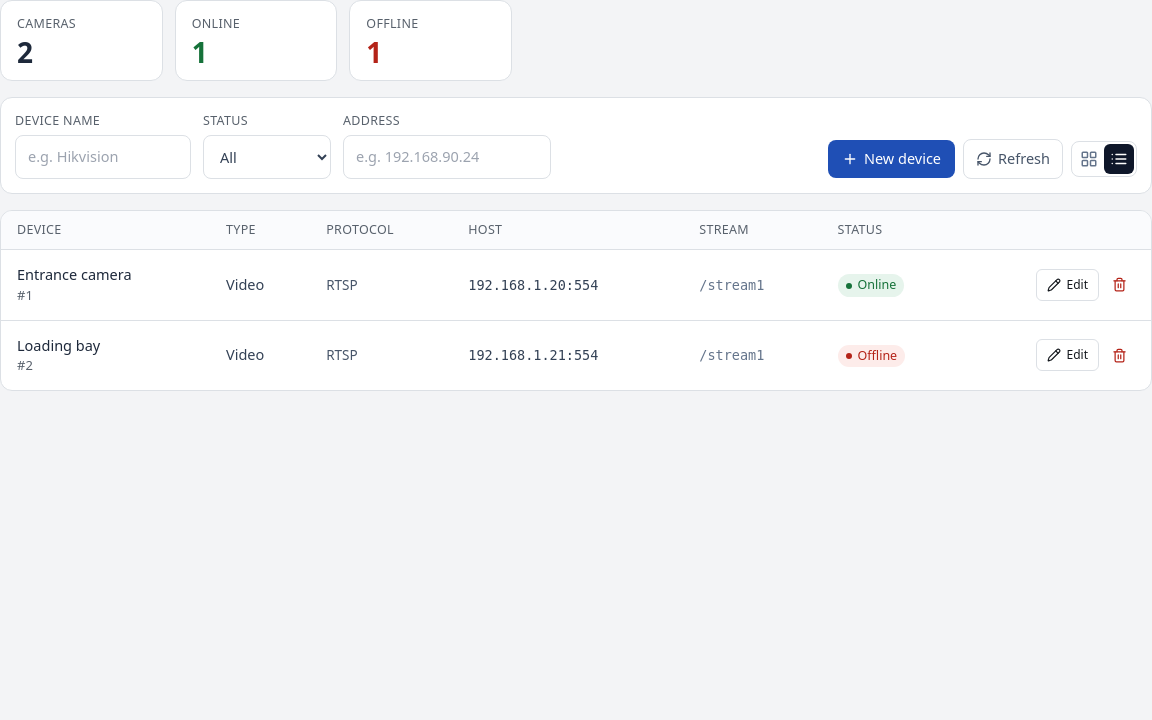
DevicesTable › submits a valid device form and shows pending UI
Expected: the text "Entrance camera" is shown, [17,264,132,284]
Click the button "New device" at {"x": 891, "y": 159}, box [828,140,955,178]
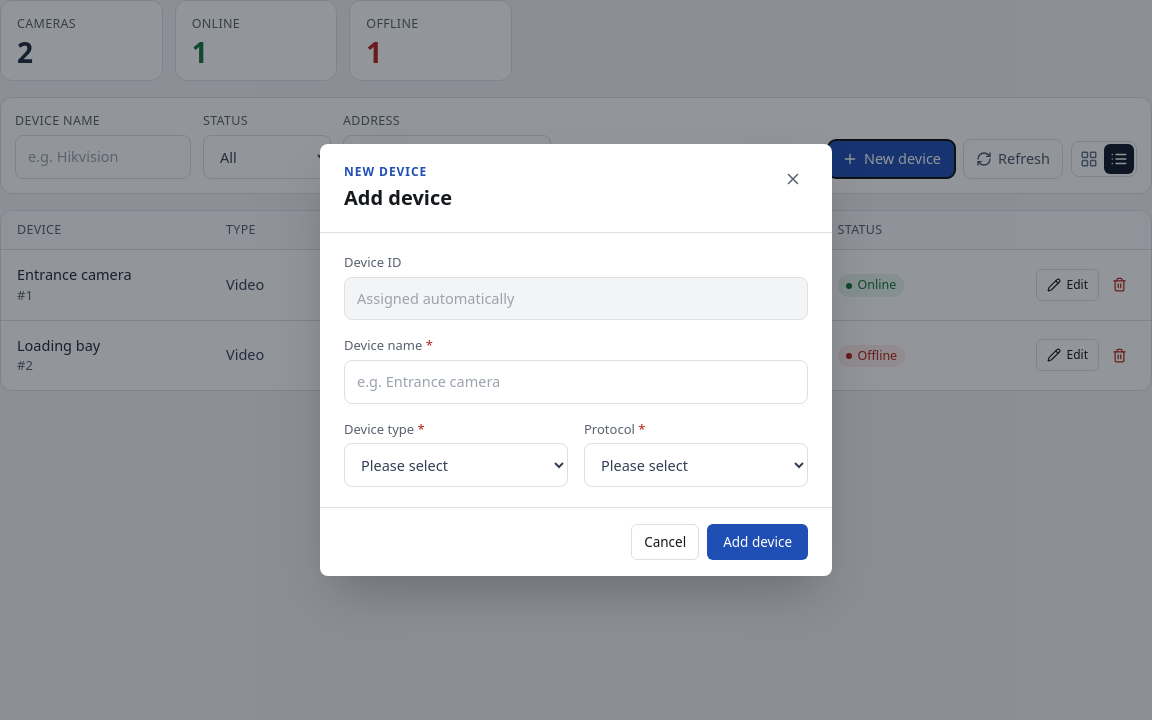
Type "Warehouse camera" into the field labelled "Device name *" at {"x": 576, "y": 382}, box [344,360,808,404]
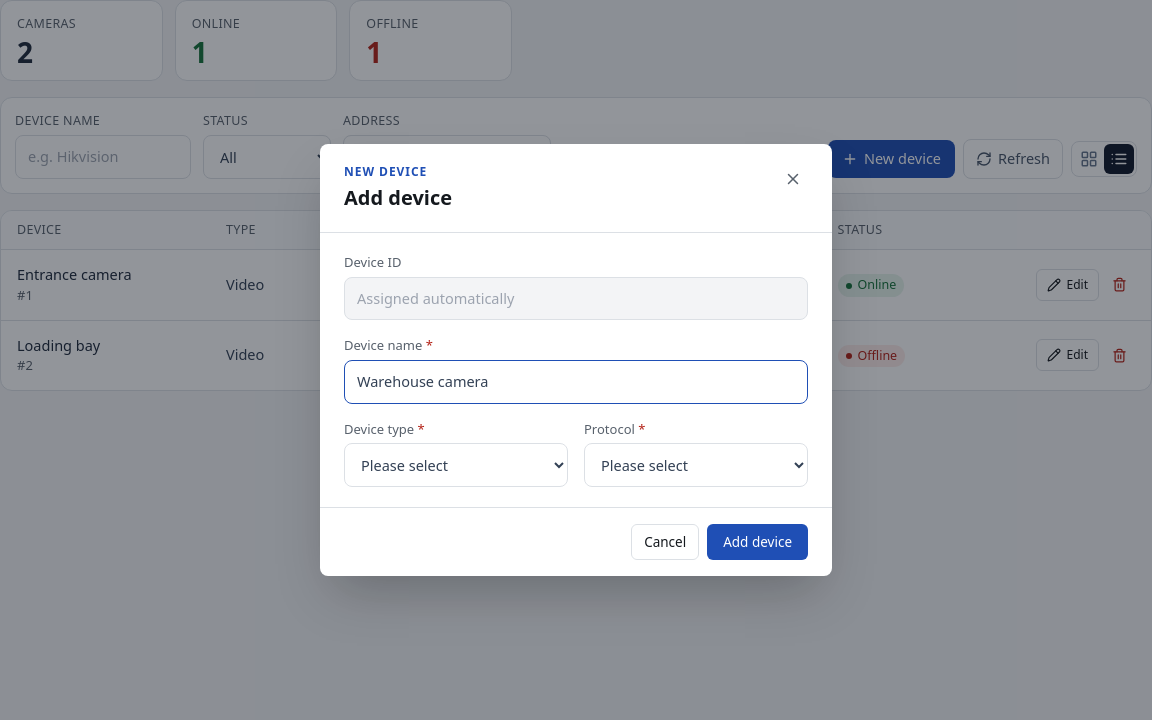
Select "Video" in the dropdown labelled "Device type *" at {"x": 456, "y": 465}, box [344,443,568,487]
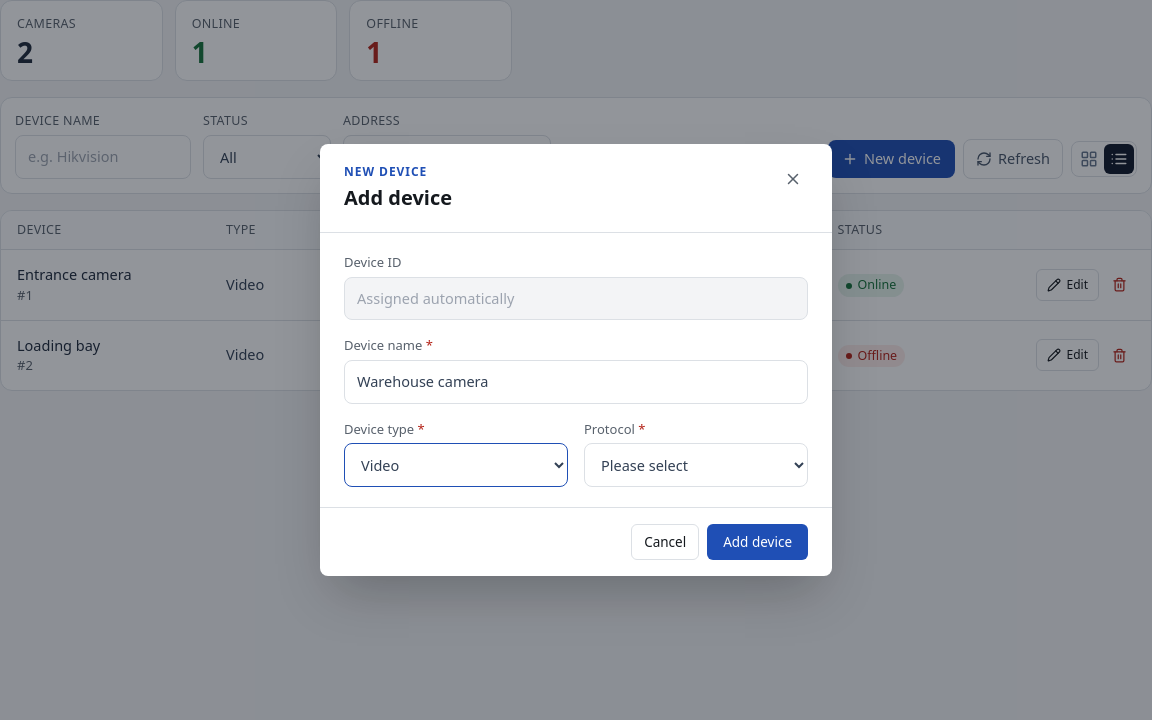
Select "RTSP" in the dropdown labelled "Protocol *" at {"x": 696, "y": 465}, box [584,443,808,487]
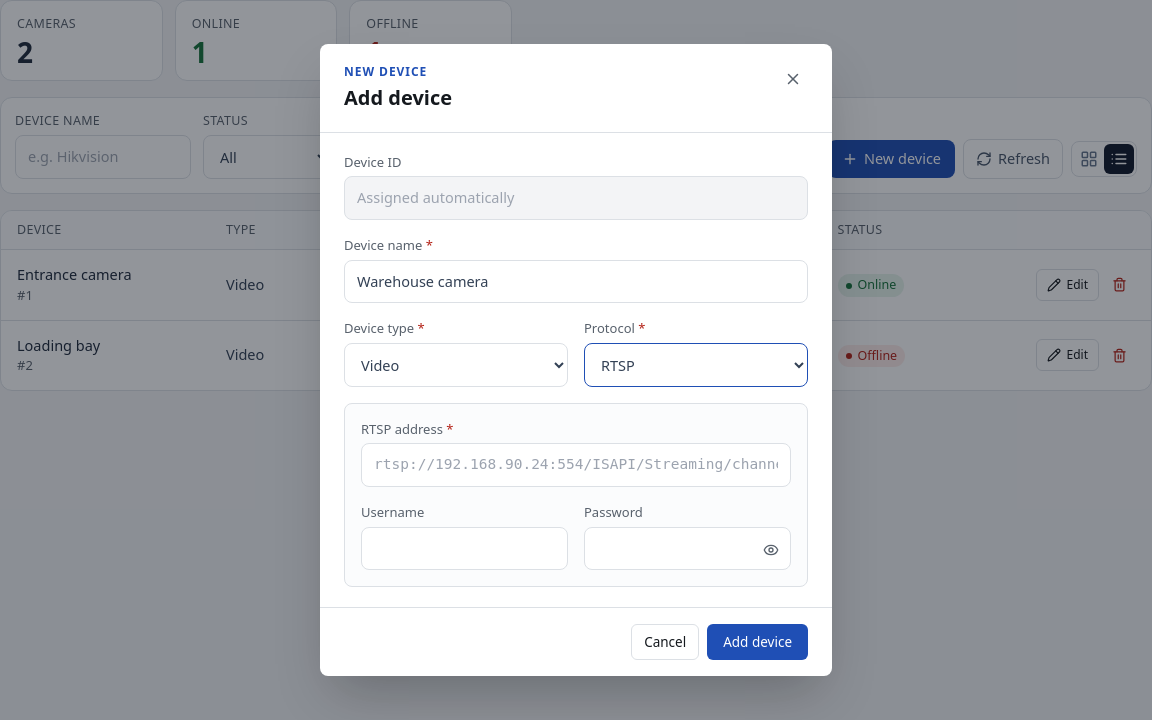
Type "rtsp://192.168.1.30/stream" into the field labelled "RTSP address *" at {"x": 576, "y": 465}, box [361,443,791,487]
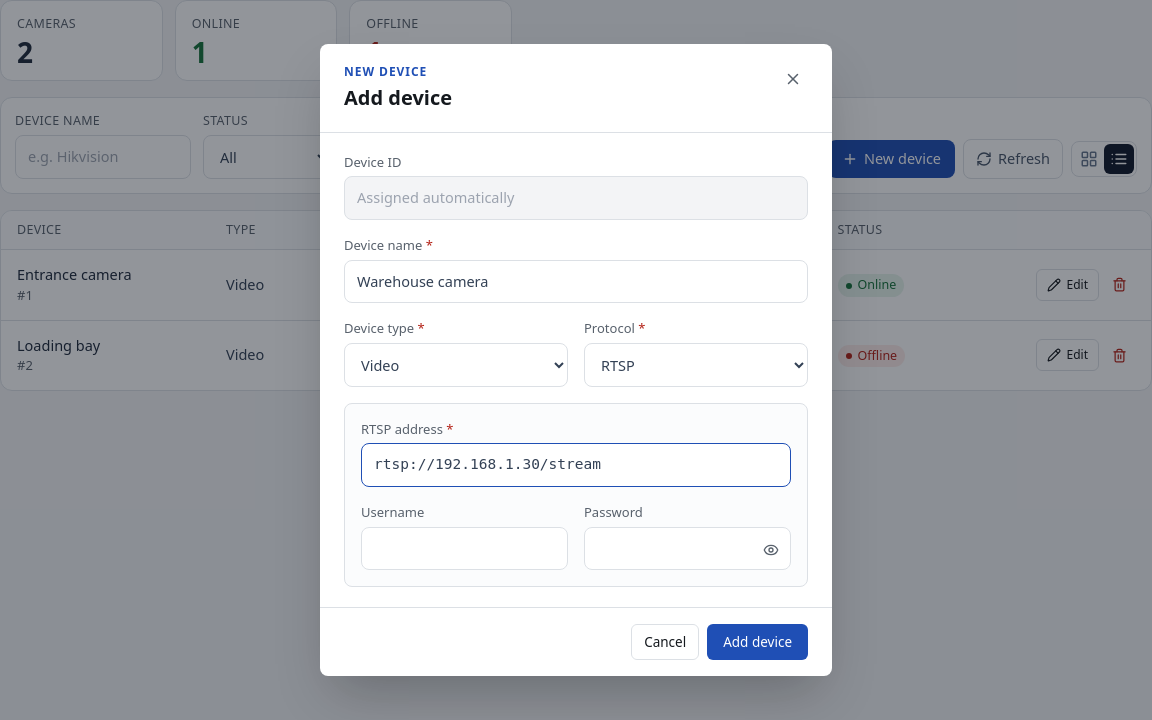
Click the button "Add device" at {"x": 758, "y": 642}, box [707,624,808,660]
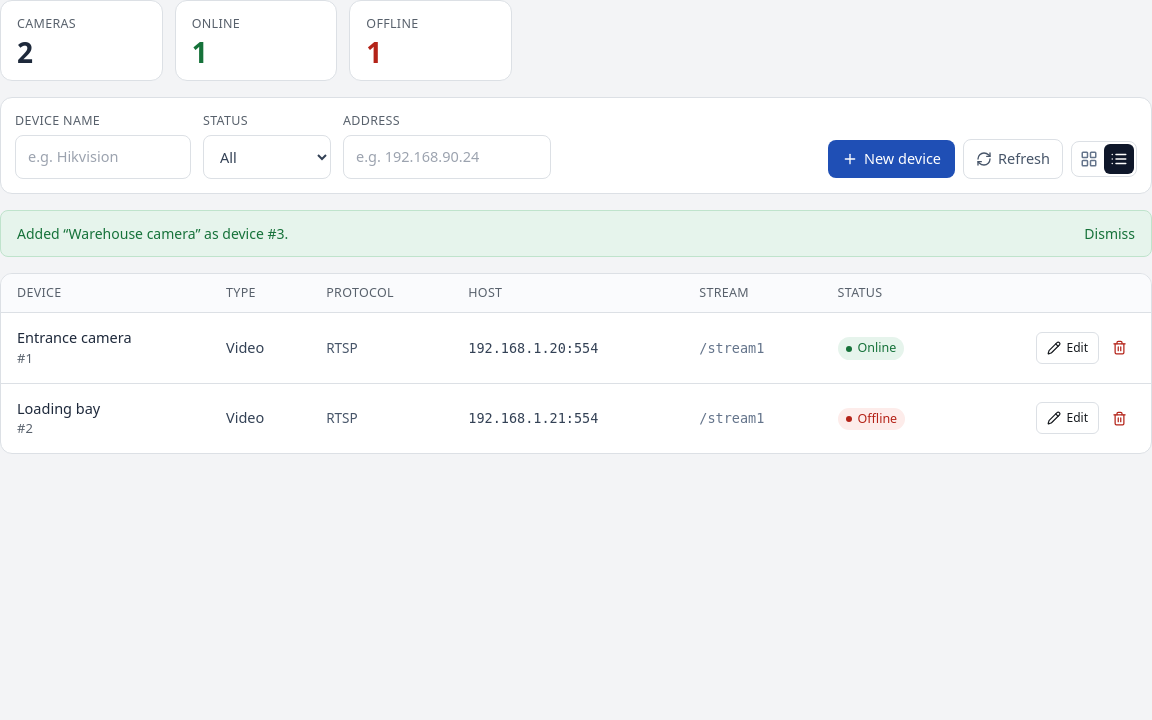
Now the text "Added “Warehouse camera” as device #3." is shown, box [17,222,288,244]
